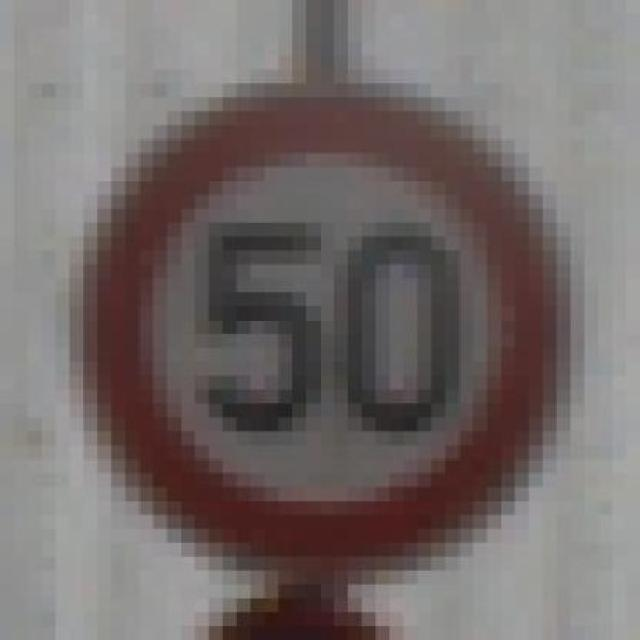forb_speed_over_50: (100, 90, 563, 565)
